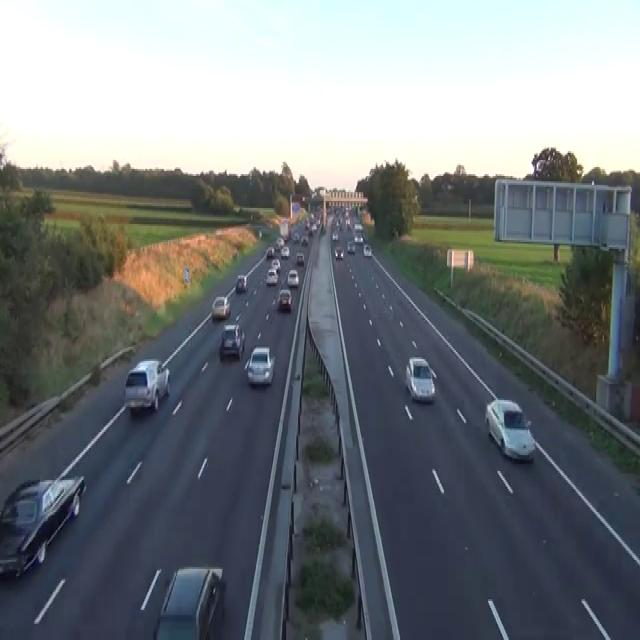Car: (0, 474, 86, 580), (153, 566, 224, 638), (484, 398, 535, 462), (124, 359, 170, 413), (405, 356, 436, 402), (244, 345, 275, 386), (218, 324, 244, 359), (211, 295, 230, 320), (277, 288, 292, 311), (235, 274, 248, 292), (286, 268, 299, 286), (265, 266, 278, 284), (334, 246, 343, 260), (271, 258, 280, 272), (275, 237, 284, 250), (354, 231, 363, 244), (363, 244, 372, 256), (346, 240, 355, 252), (266, 245, 274, 258), (281, 245, 289, 258), (296, 251, 304, 263), (309, 222, 316, 235), (300, 235, 308, 245), (331, 231, 338, 242), (292, 231, 299, 242), (354, 222, 362, 231), (361, 231, 367, 242), (304, 219, 309, 229), (310, 212, 315, 222), (346, 218, 350, 228), (259, 230, 262, 238)
Truck: (279, 219, 290, 240)
